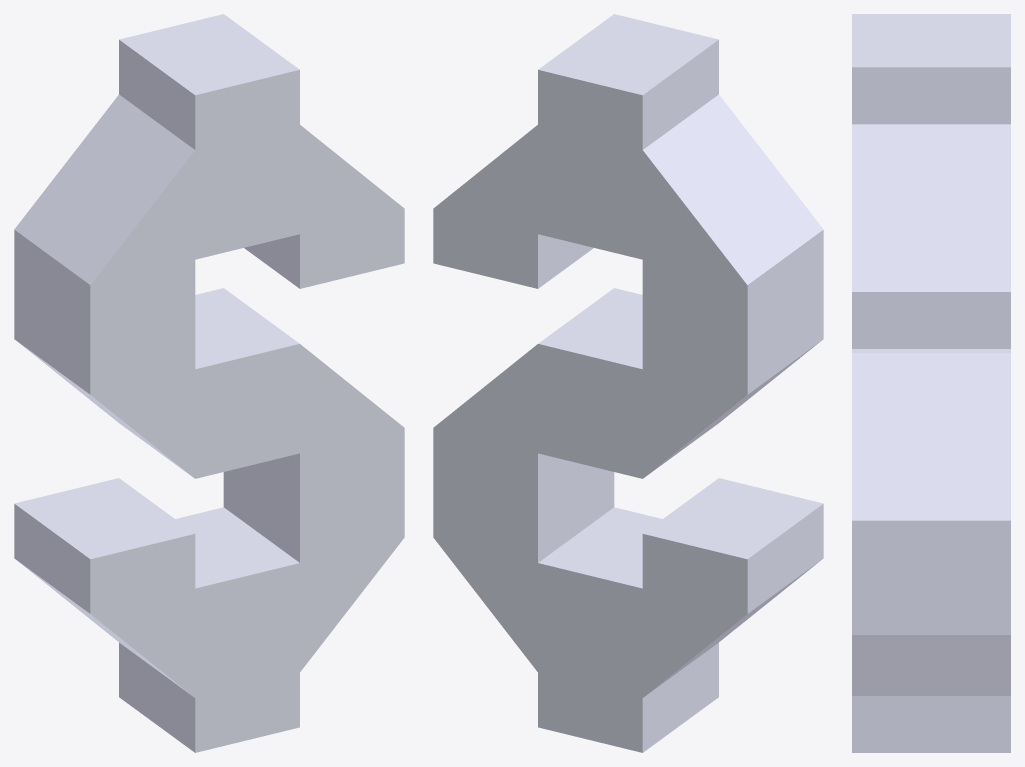
The model's file is symbol$_DeltaBlock_Grey.glb.
3 renders of one model, left to right at view 1: azimuth 30°, elevation 25°; view 2: azimuth 150°, elevation 25°; view 3: azimuth 270°, elevation 25°, orthographic. The views are drawn at different scales.
Parts seen in each view (by area): view 1: $_DeltaBlock_Grey; view 2: $_DeltaBlock_Grey; view 3: $_DeltaBlock_Grey.
Part boxes in pixels (bbox=[...]): $_DeltaBlock_Grey: bbox=[14, 14, 404, 752]; $_DeltaBlock_Grey: bbox=[433, 14, 823, 752]; $_DeltaBlock_Grey: bbox=[852, 14, 1010, 752].
Size of what is drawn, in the model's own units: 0.1071 by 0.2143 by 0.045.
Materials: 2 (2 with a texture image).
